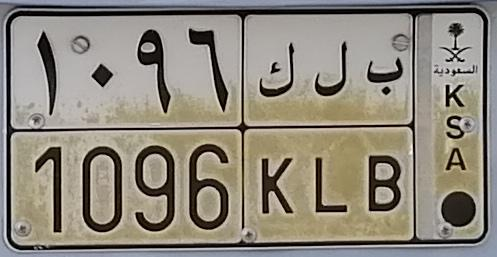0: (79, 62, 125, 235)
1: (33, 27, 66, 234)
6: (185, 26, 232, 231)
9: (134, 28, 176, 233)
B: (366, 58, 405, 214)
K: (256, 40, 299, 216)
L: (311, 40, 349, 214)
